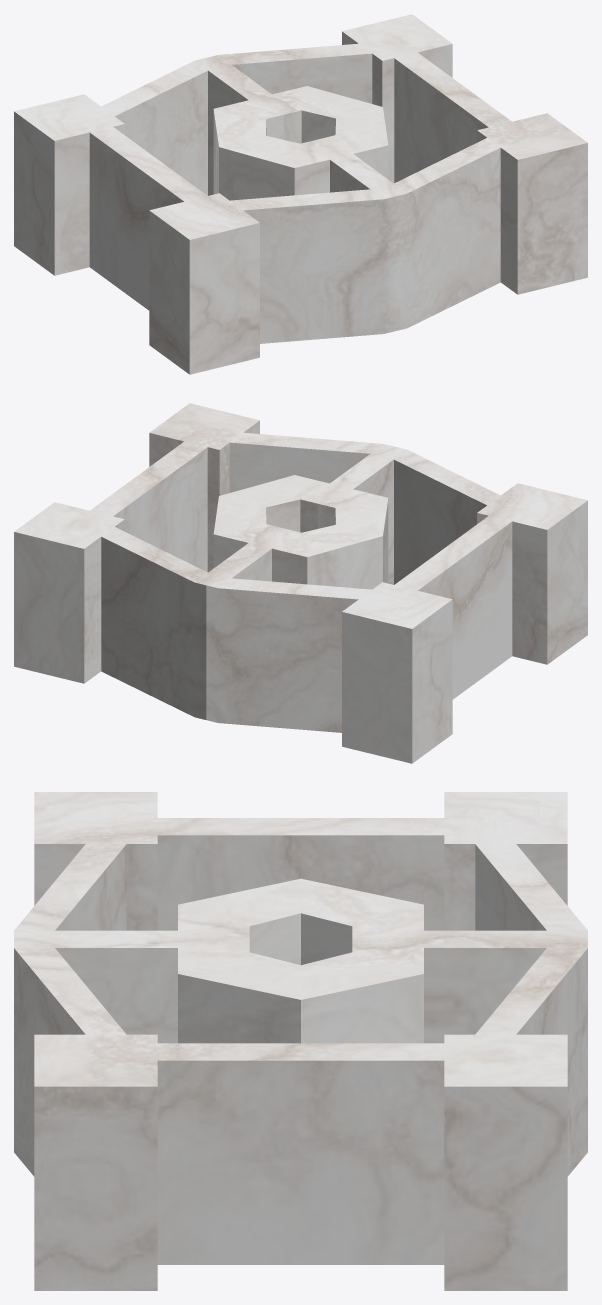
Rendered from Solaris.fbx.
The picture shows the model from 3 angles, top to bottom: view 1: azimuth 30°, elevation 25°; view 2: azimuth 150°, elevation 25°; view 3: azimuth 270°, elevation 25°; orthographic projection. The views are drawn at different scales.
Parts seen in each view (by area): view 1: Solaris_Base; view 2: Solaris_Base; view 3: Solaris_Base.
Part boxes in pixels (<box>): Solaris_Base: <box>14,14,587,374</box>; Solaris_Base: <box>14,403,587,763</box>; Solaris_Base: <box>14,792,587,1290</box>.
Bounding box in the file's own units: 34 × 11 × 28.
Materials: 1 (1 with a texture image).
